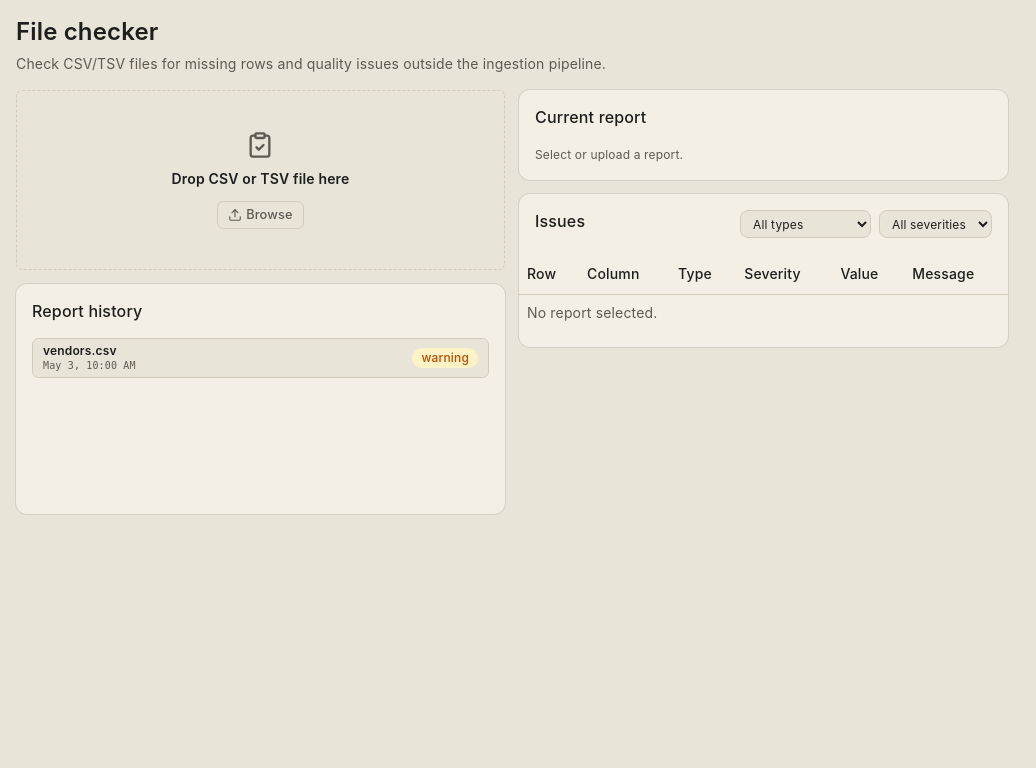
Test case: FileChecker page › loads report detail when a history item is selected
The width and height of the screenshot is (1036, 768).
Click the button "vendors.csv May 3, 10:00 AM warning".
click(80, 350)  # box top-left (32, 338), bottom-right (489, 378)
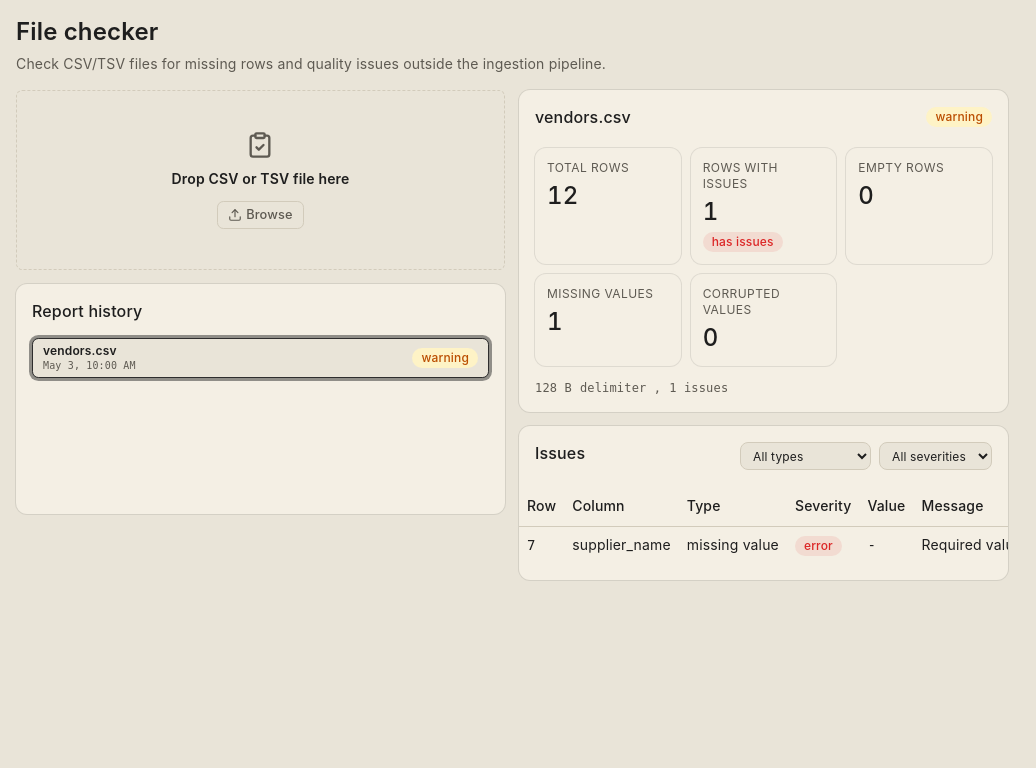
Expected: the text "supplier_name" is shown, top-left (564, 526), bottom-right (679, 564)
